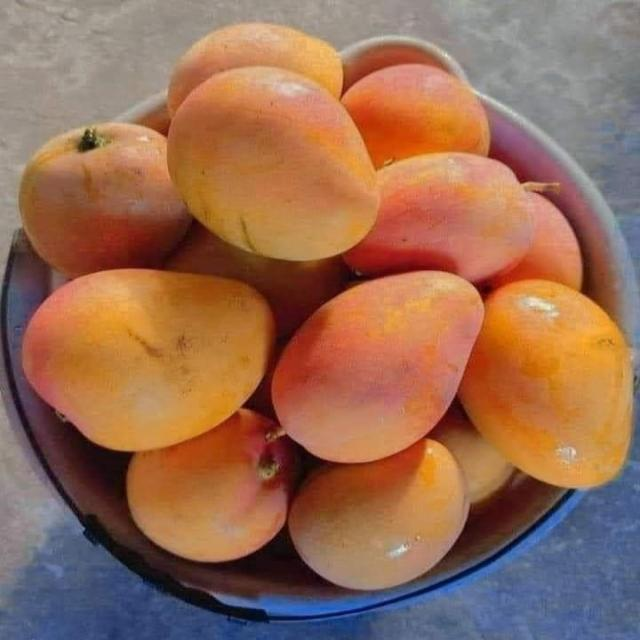mango: (21, 269, 275, 451), (168, 66, 379, 260), (272, 271, 483, 463), (459, 280, 632, 488), (288, 438, 468, 589), (19, 122, 192, 277), (127, 409, 297, 562), (344, 152, 532, 283), (164, 222, 346, 336), (167, 23, 342, 118), (340, 64, 489, 168), (487, 192, 582, 290), (428, 405, 513, 508)
